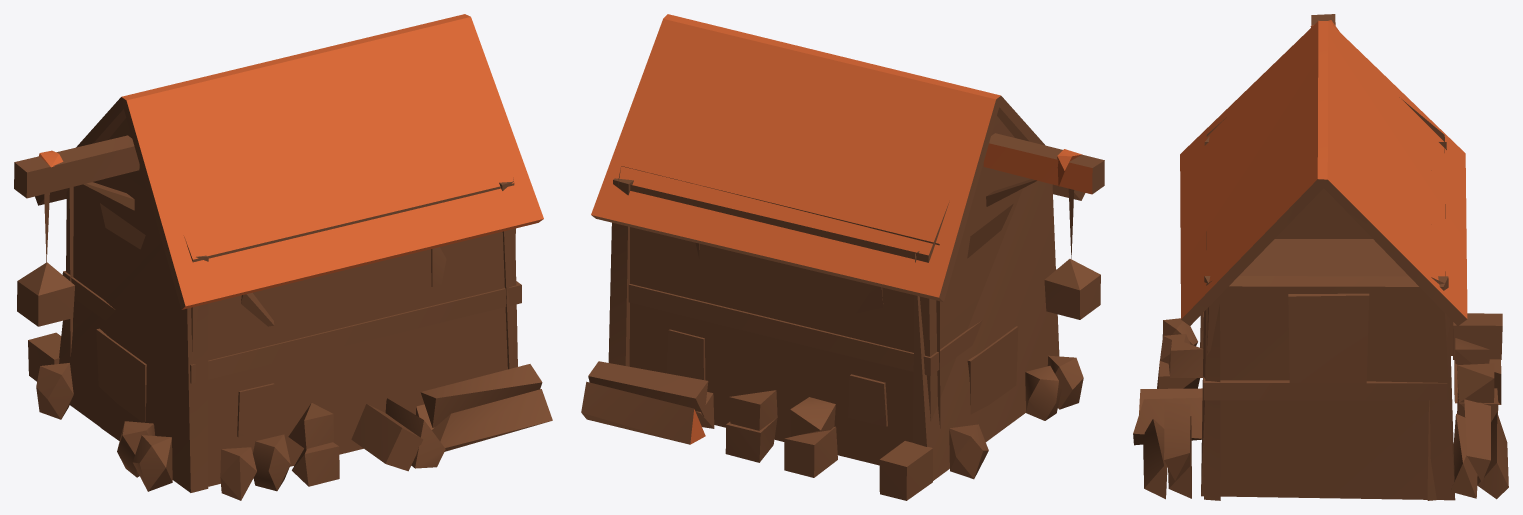
Rendered from supply33.glb.
3 renders of one model, left to right at view 1: azimuth 30°, elevation 25°; view 2: azimuth 150°, elevation 25°; view 3: azimuth 270°, elevation 25°, orthographic. The views are drawn at different scales.
Parts seen in each view (by area): view 1: supply33; view 2: supply33; view 3: supply33.
Part boxes in pixels (x1,y1,x2,y2): supply33: [14, 14, 552, 500]; supply33: [581, 14, 1104, 500]; supply33: [1133, 14, 1508, 500].
Bounding box in the file's own units: 2.9 × 2.16 × 2.24.
